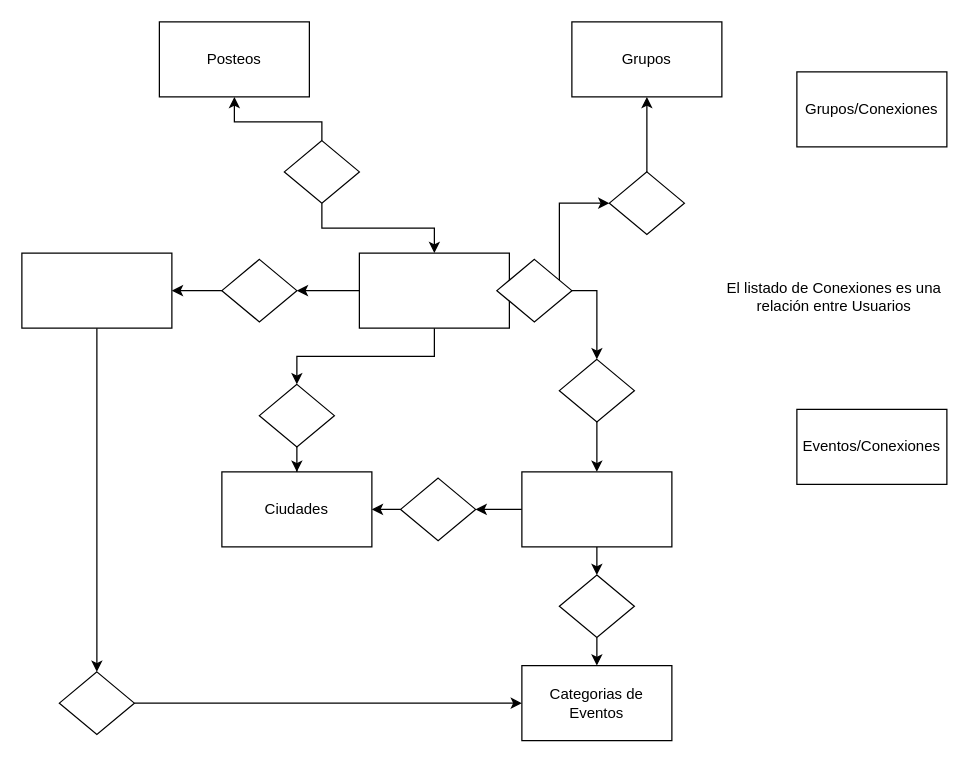
Image size: 969x763. Some labels were removed from this diagram. Here are the shapes that lost their labels. From the top down, the centre of each, then its label:
[96,290]: Intereses
[433,290]: Usuario
[596,509]: Eventos
